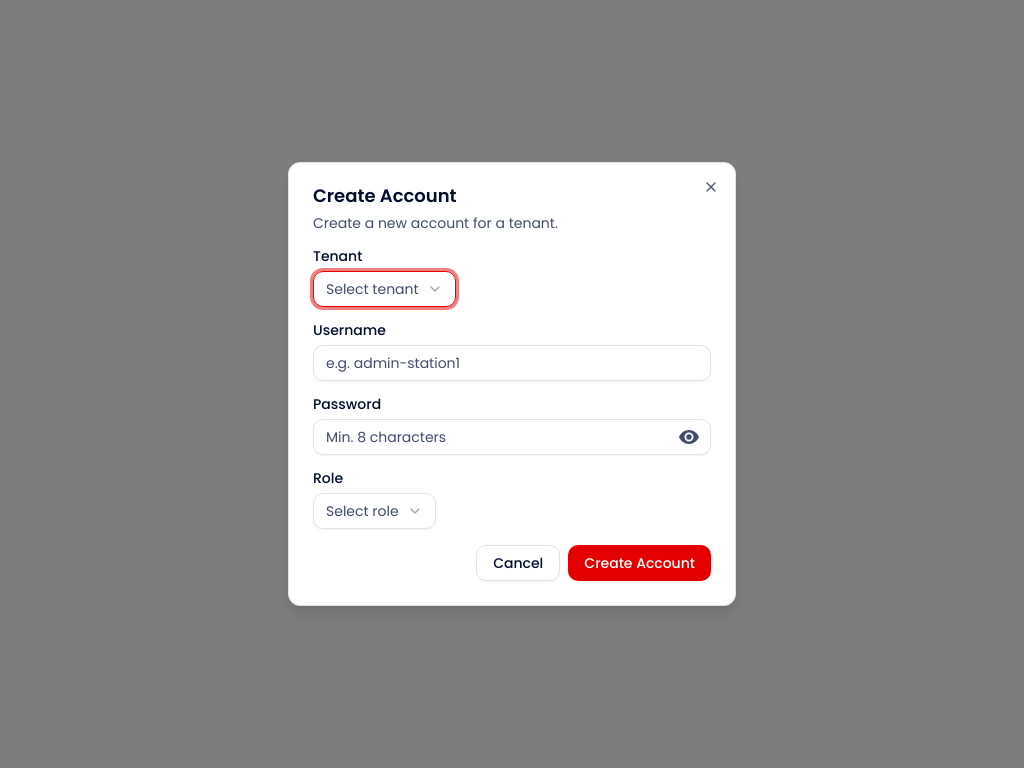
Test: AccountCreateDialog › shows username validation error after blur with short username
The image size is (1024, 768).
Step 1. Type "ab" into the field with placeholder "e.g. admin-station1" → (512, 363), box [313, 345, 711, 381]
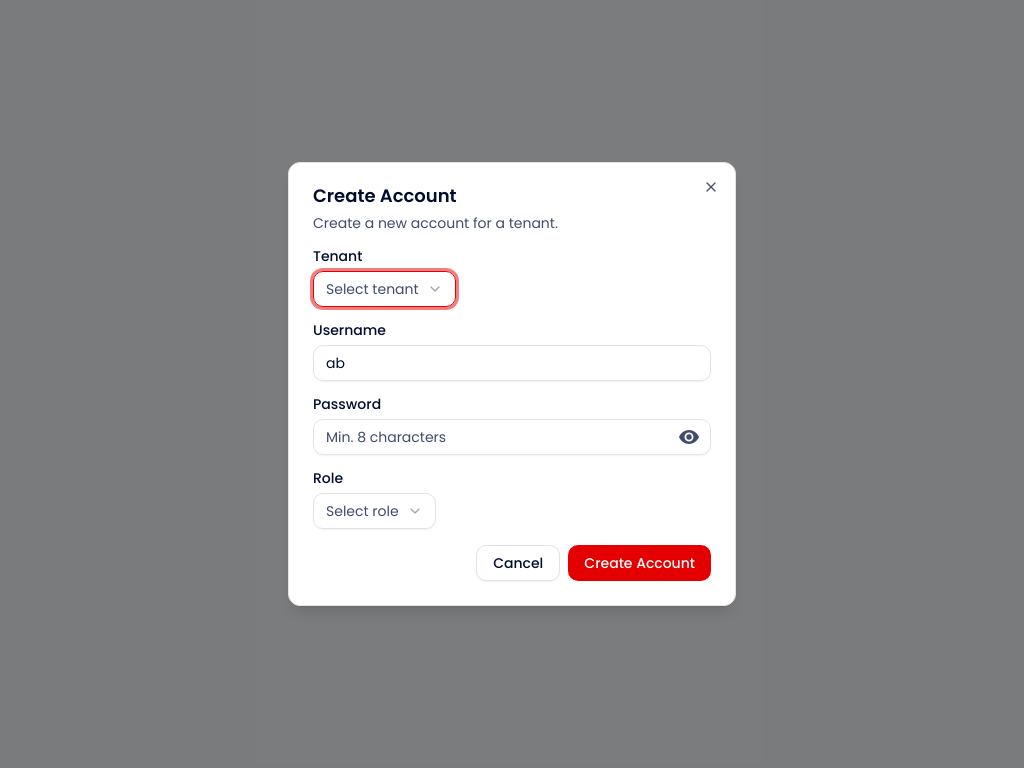
Step 2. Leave the field with placeholder "e.g. admin-station1", box [313, 345, 711, 381]
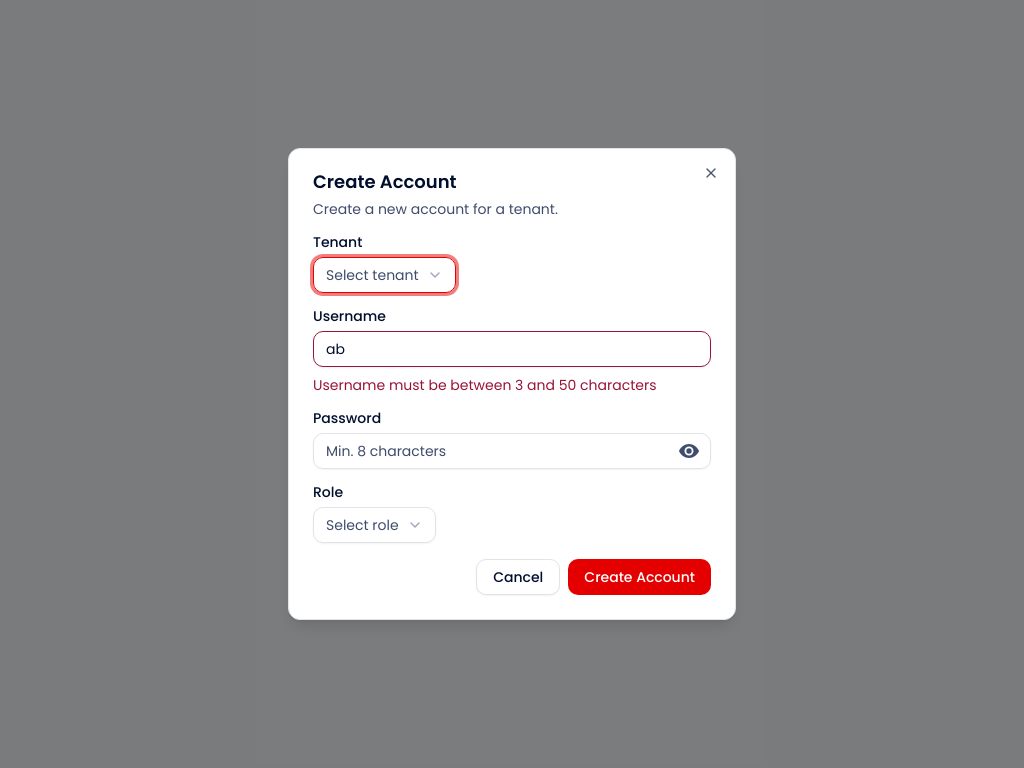
Now the text "Username must be between 3 and 50 characters" is shown, box [313, 375, 711, 395]
